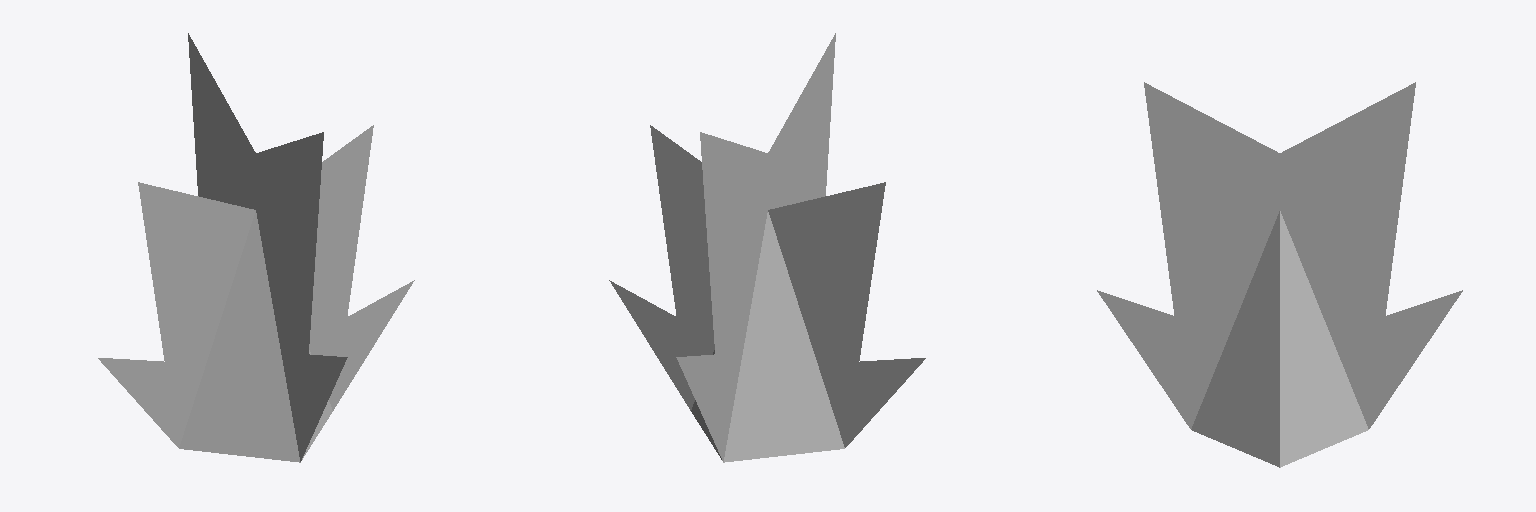
The model's file is plant_flatTall.obj.
3 renders of one model, left to right at view 1: azimuth 30°, elevation 25°; view 2: azimuth 150°, elevation 25°; view 3: azimuth 270°, elevation 25°, orthographic.
Visible parts, largest first — view 1: plant_flatTall; view 2: plant_flatTall; view 3: plant_flatTall.
Part boxes in pixels (x1,y1,x2,y2): plant_flatTall: (98, 33, 414, 462); plant_flatTall: (609, 33, 925, 462); plant_flatTall: (1097, 82, 1462, 467).
Size of the model in its own units: 0.2717 by 0.2843 by 0.2717.